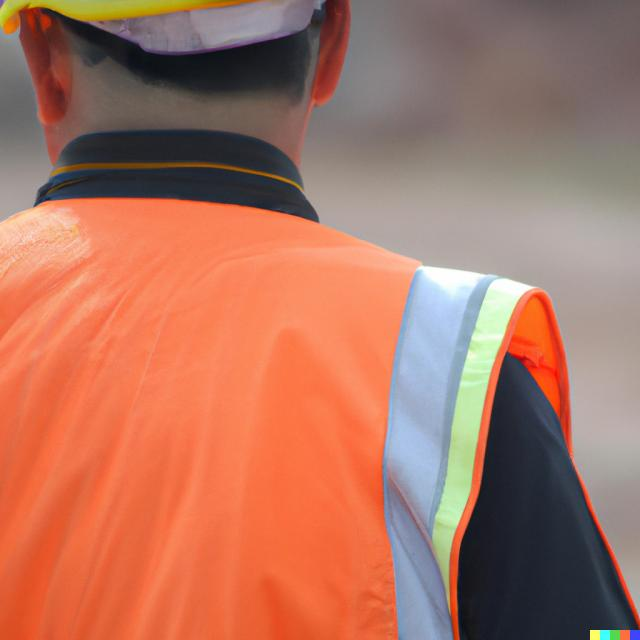Reflective-Jacket: (0, 154, 624, 639)
